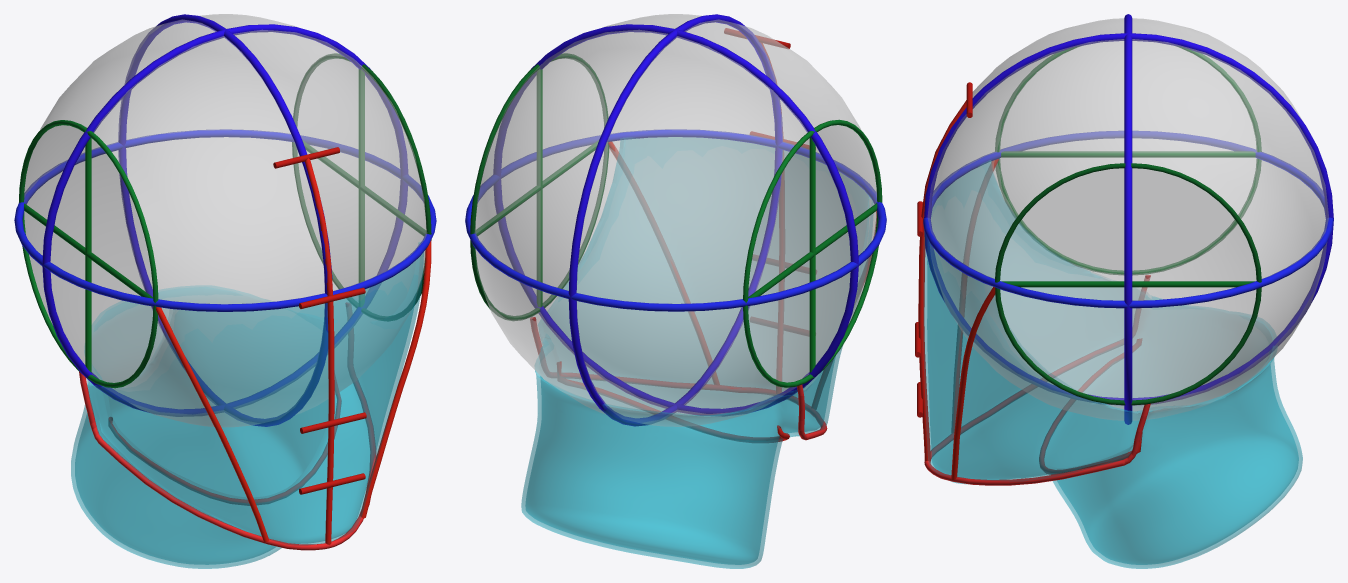
Rendered from loomis_head_study_with_a_neck.glb.
3 renders of one model, left to right at view 1: azimuth 30°, elevation 25°; view 2: azimuth 150°, elevation 25°; view 3: azimuth 270°, elevation 25°, orthographic. The views are drawn at different scales.
Visible parts, largest first — view 1: Sphere.001_1, Object_4, object 12, object 14, object 13, object 18, object 15, object 11, object 10, object 17, object 16, Cylinder.019_8 (+3 smaller); view 2: Sphere.001_1, Object_4, object 12, object 13, object 14, object 11, object 10, object 15, object 18, Cylinder.019_8, object 16, Cylinder.016_5 (+3 smaller); view 3: Sphere.001_1, Object_4, object 13, object 14, object 10, object 12, object 11, object 15, object 18, object 17, Cylinder.018_7, Cylinder.017_6 (+1 smaller).
Part boxes in pixels (x1,y1,x2,y2): Sphere.001_1: [24, 14, 426, 426]; Object_4: [71, 242, 423, 568]; object 12: [42, 24, 408, 416]; object 14: [14, 129, 436, 311]; object 13: [118, 14, 332, 426]; object 18: [155, 240, 431, 542]; object 15: [79, 302, 376, 550]; object 11: [19, 120, 158, 388]; object 10: [292, 53, 431, 320]; object 17: [305, 158, 334, 545]; object 16: [108, 377, 341, 505]; Cylinder.019_8: [85, 130, 91, 378]; Sphere.001_1: [474, 14, 876, 426]; Object_4: [521, 137, 873, 568]; object 12: [493, 24, 858, 415]; object 13: [568, 14, 782, 426]; object 14: [465, 129, 886, 311]; object 11: [743, 119, 882, 387]; object 10: [470, 53, 609, 320]; object 15: [530, 317, 827, 440]; object 18: [608, 141, 876, 409]; Cylinder.019_8: [809, 131, 815, 377]; object 16: [557, 361, 789, 442]; Cylinder.016_5: [537, 69, 542, 306]; Sphere.001_1: [928, 18, 1328, 420]; Object_4: [923, 160, 1302, 568]; object 13: [924, 33, 1333, 405]; object 14: [923, 131, 1333, 308]; object 10: [995, 163, 1261, 405]; object 12: [1124, 14, 1132, 424]; object 11: [995, 46, 1261, 275]; object 15: [924, 275, 1150, 485]; object 18: [951, 159, 998, 479]; object 17: [918, 100, 966, 461]; Cylinder.018_7: [1001, 151, 1255, 157]; Cylinder.017_6: [1002, 281, 1254, 287].
Size of the model in its own units: 2.04 by 2.79 by 2.08.
